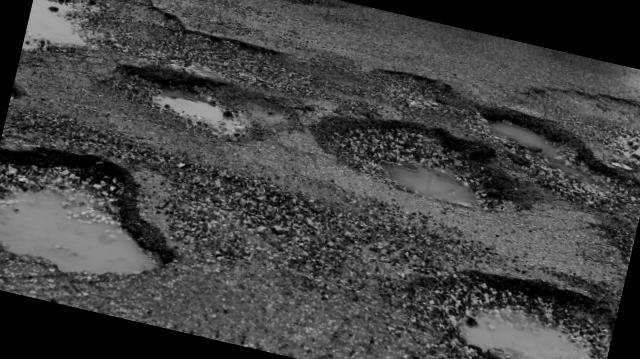Pothole: (268, 68, 640, 265), (0, 122, 209, 325), (370, 242, 621, 359), (20, 0, 237, 100), (115, 58, 302, 169)
